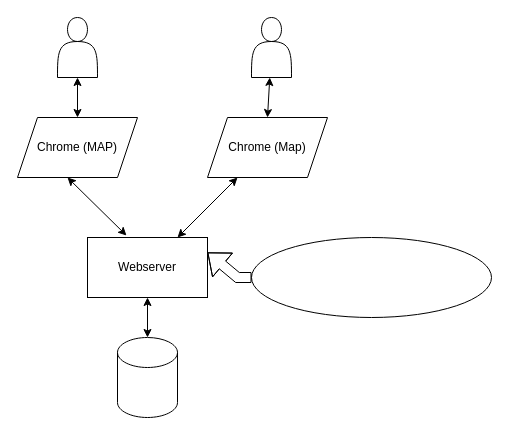
The diagram is 509 pixels wide and 435 high, and some of its shapes have lost their labels. The centre of each missing label's shape, as x and y in pixels:
SQL-Datenbank: pixel 147 377
Webanwendung Arbeitsabläufe: pixel 371 277
